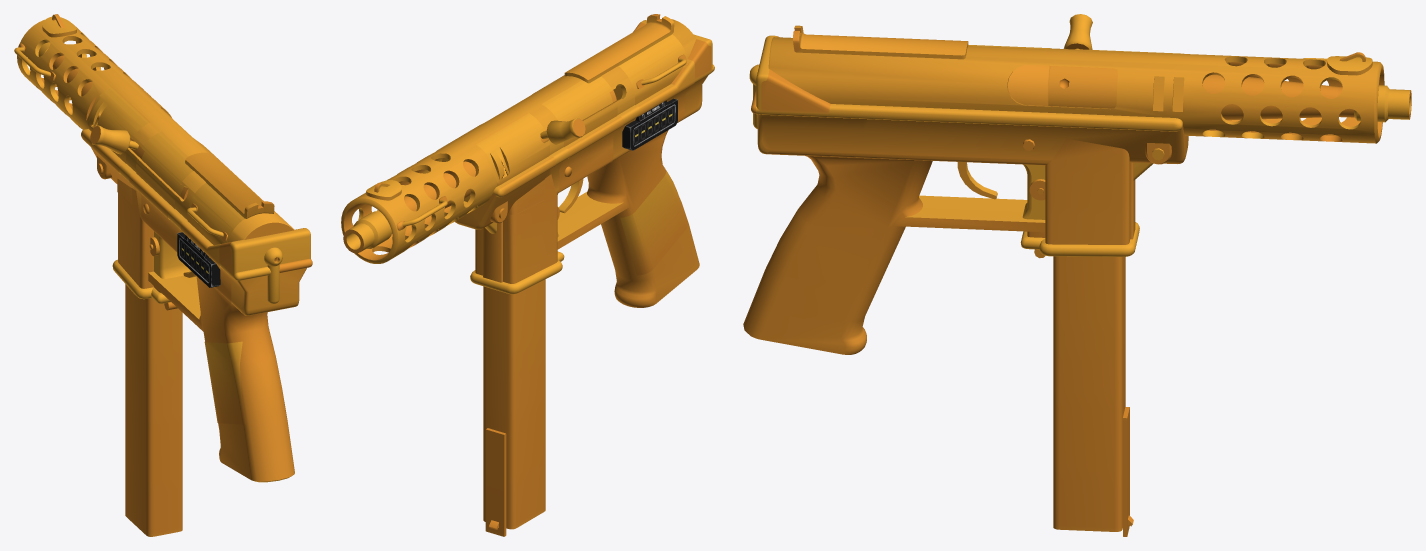
File: tec9.glb
3 renders of one model, left to right at view 1: azimuth 30°, elevation 25°; view 2: azimuth 150°, elevation 25°; view 3: azimuth 270°, elevation 25°, orthographic. The views are drawn at different scales.
Visible parts, largest first — view 1: LOD_Template.001, Magazine1.001, Sticker2, Sticker1, Sticker3, Sticker4, StatTrack.003, Gunlock1.001; view 2: LOD_Template.001, Magazine1.001, Sticker1, Sticker2, Sticker4, Sticker3, StatTrack.003, Gunlock1.001; view 3: LOD_Template.001, Magazine1.001, Gunlock1.001.
Boxes of the visible parts, x1,y1,x2,y2 form: LOD_Template.001: (14,14,312,482); Magazine1.001: (125,284,182,536); Sticker2: (129,131,193,252); Sticker1: (81,87,150,209); Sticker3: (180,180,244,302); Sticker4: (204,341,245,424); StatTrack.003: (177,232,220,287); Gunlock1.001: (90,125,188,200); LOD_Template.001: (341,14,714,307); Magazine1.001: (483,279,545,536); Sticker1: (475,113,555,228); Sticker2: (541,74,623,192); Sticker4: (620,170,688,275); Sticker3: (618,32,694,150); StatTrack.003: (622,98,677,150); Gunlock1.001: (540,90,616,144); LOD_Template.001: (743,25,1411,354); Magazine1.001: (1053,256,1133,536); Gunlock1.001: (1007,14,1117,108).
Size of the model in its own units: 0.1021 by 0.3536 by 0.4386.
6 materials, 6 textured.
